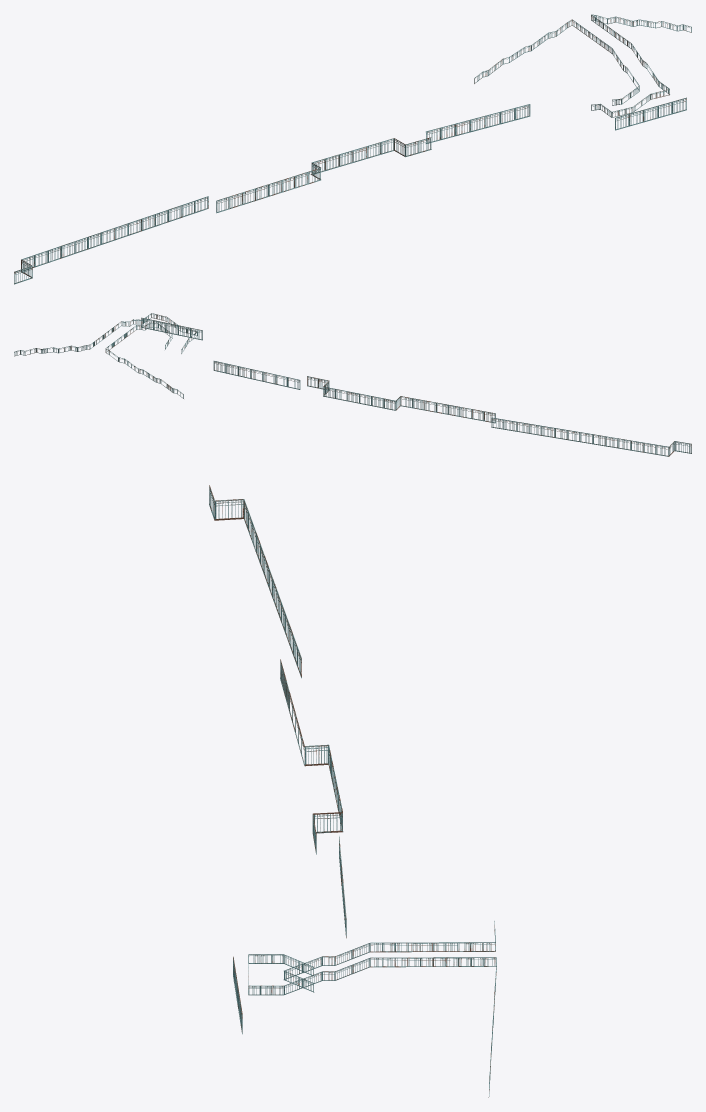
File: ZABORI FIX.fbx
The picture shows the model from 3 angles, top to bottom: view 1: azimuth 30°, elevation 25°; view 2: azimuth 150°, elevation 25°; view 3: azimuth 270°, elevation 25°; orthographic projection. The views are drawn at different scales.
Visible parts, largest first — view 1: zabori; view 2: zabori; view 3: zabori.
Part boxes in pixels (x1,y1,x2,y2): zabori: (14,14,691,284); zabori: (14,313,691,456); zabori: (209,485,496,1097).
Bounding box in the file's own units: 16141 × 825 × 3307.
